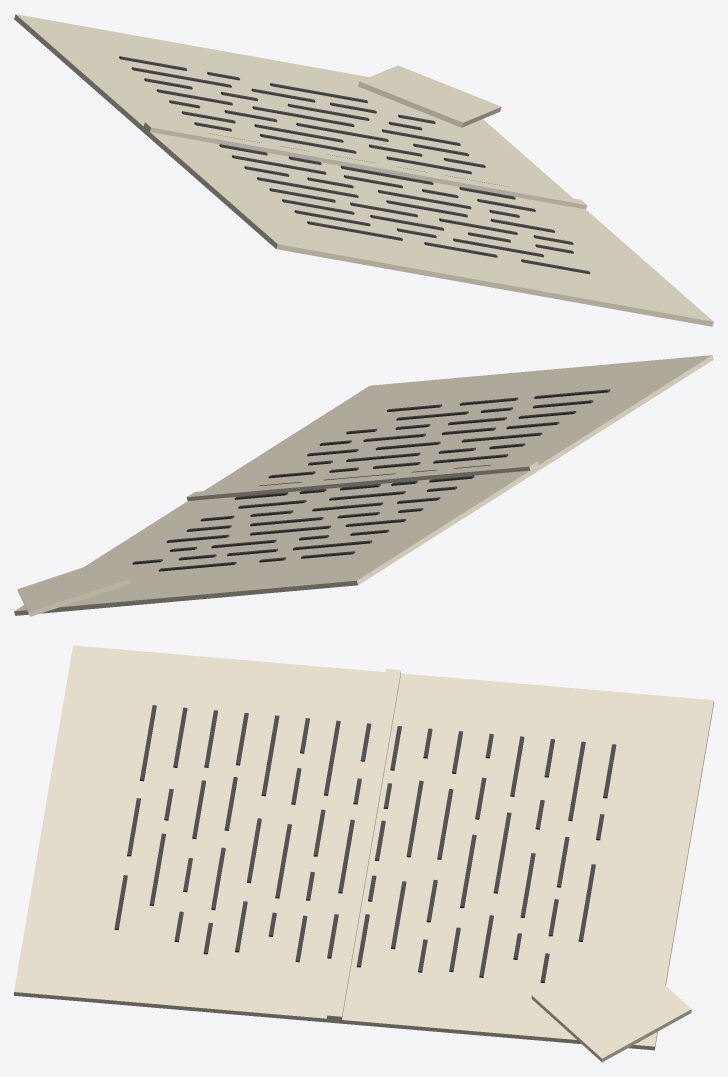
The model's file is lore_slip.glb.
3 views of the same model, one above another, from view 1: azimuth 30°, elevation 25°; view 2: azimuth 150°, elevation 25°; view 3: azimuth 270°, elevation 25° (orthographic). The views are drawn at different scales.
Parts seen in each view (by area): view 1: teil0, teil1; view 2: teil0, teil1; view 3: teil0, teil1.
Part boxes in pixels (x1,y1,x2,y2): teil0: [14, 14, 713, 326]; teil1: [119, 56, 590, 274]; teil0: [14, 355, 713, 616]; teil1: [132, 389, 610, 571]; teil0: [14, 645, 713, 1062]; teil1: [114, 705, 616, 982].
Size of the model in its own units: 0.1478 by 0.0527 by 0.1843.
